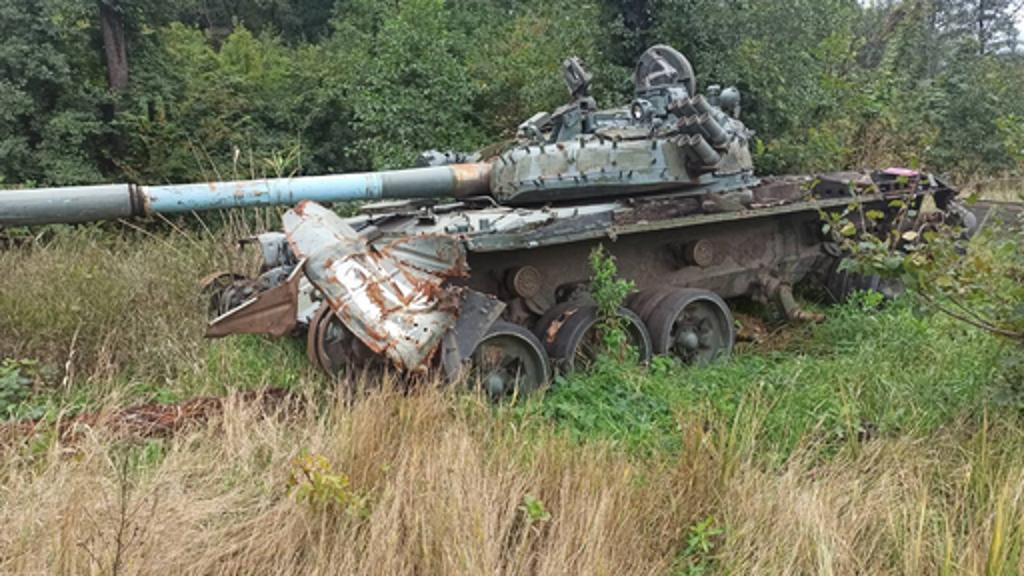TANK: (0, 52, 976, 408)
